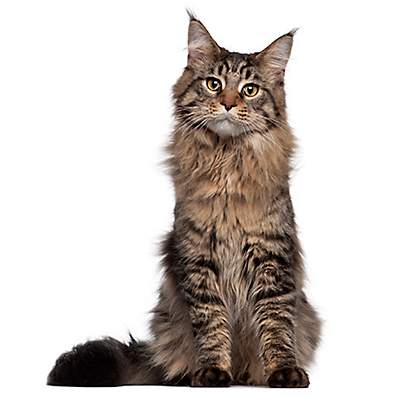Cat: (34, 6, 330, 397)
